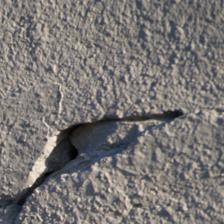Crack: (12, 53, 176, 148)
